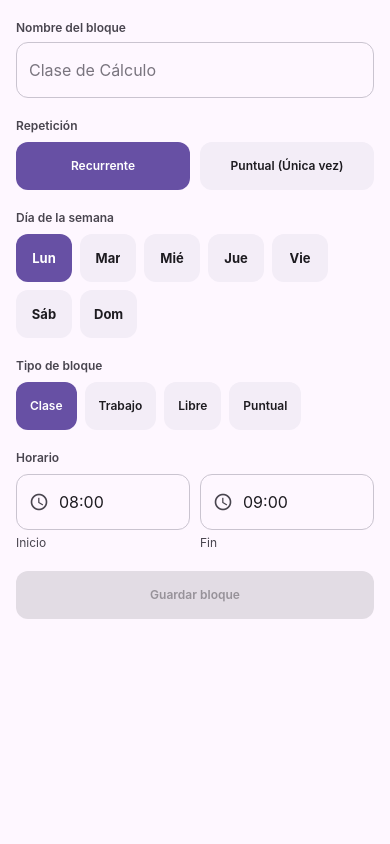
Scenario: muestra el error del servidor y se queda en la pantalla
In the field named "Nombre del bloque": [195, 70] box [29,58,361,82], type "Clase"
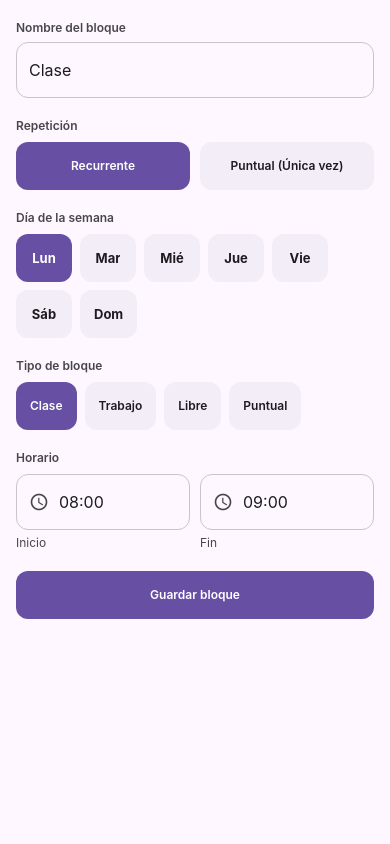
Click the button "Guardar bloque": [195, 595] box [16,571,374,619]
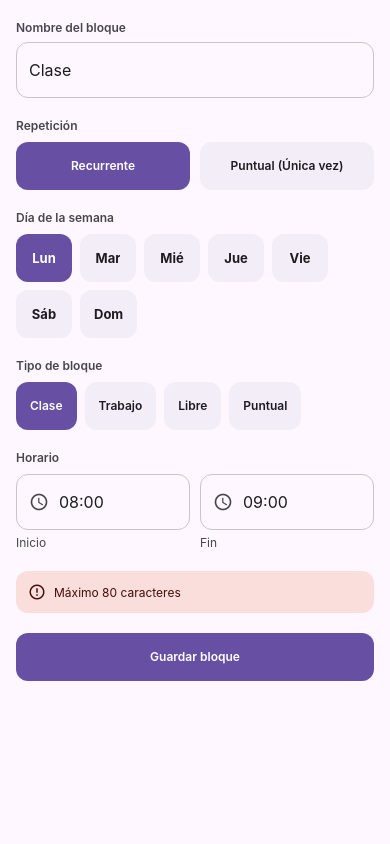
expect the text "Máximo 80 caracteres" is shown: met, box [54,584,181,600]
